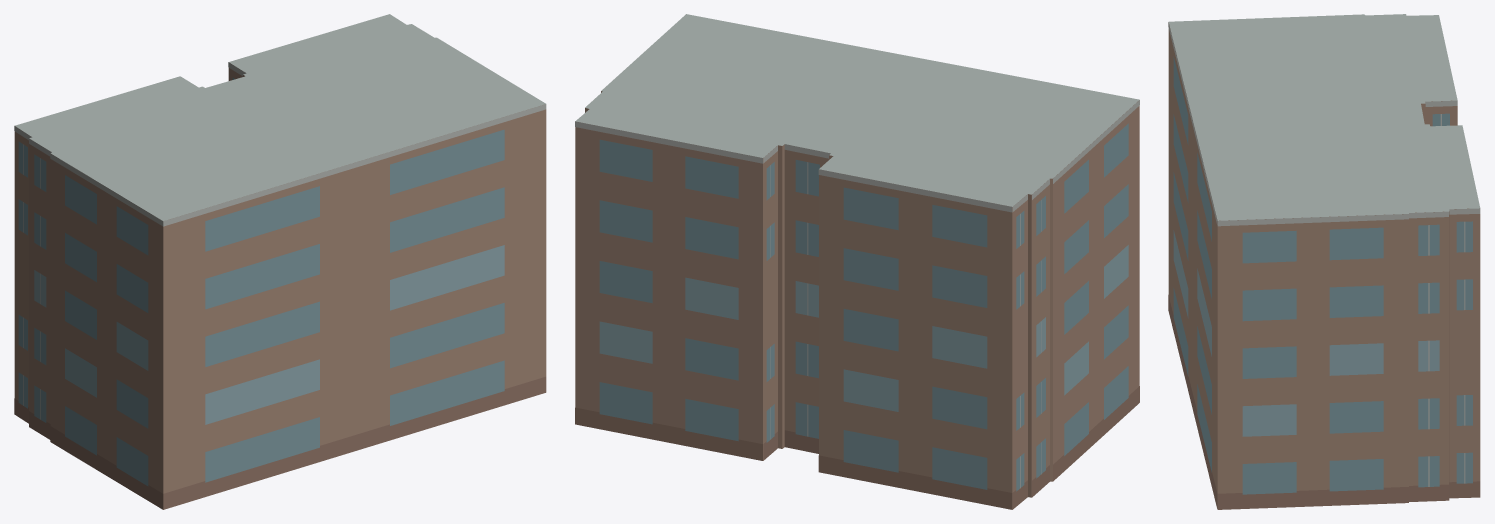
Rendered from survey-upis-32653984.glb.
3 renders of one model, left to right at view 1: azimuth 30°, elevation 25°; view 2: azimuth 150°, elevation 25°; view 3: azimuth 270°, elevation 25°, orthographic. The views are drawn at different scales.
Visible parts, largest first — view 1: survey-upis-32653984.tmp; view 2: survey-upis-32653984.tmp; view 3: survey-upis-32653984.tmp.
Part boxes in pixels (left/top/right/bottom): survey-upis-32653984.tmp: left=14, top=14, right=546, bottom=509; survey-upis-32653984.tmp: left=575, top=14, right=1139, bottom=509; survey-upis-32653984.tmp: left=1168, top=14, right=1480, bottom=509.
Size of the model in its own units: 19.96 by 13 by 12.72.
